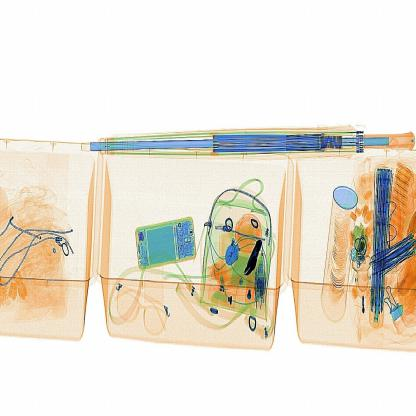knife: (245, 236, 260, 278)
